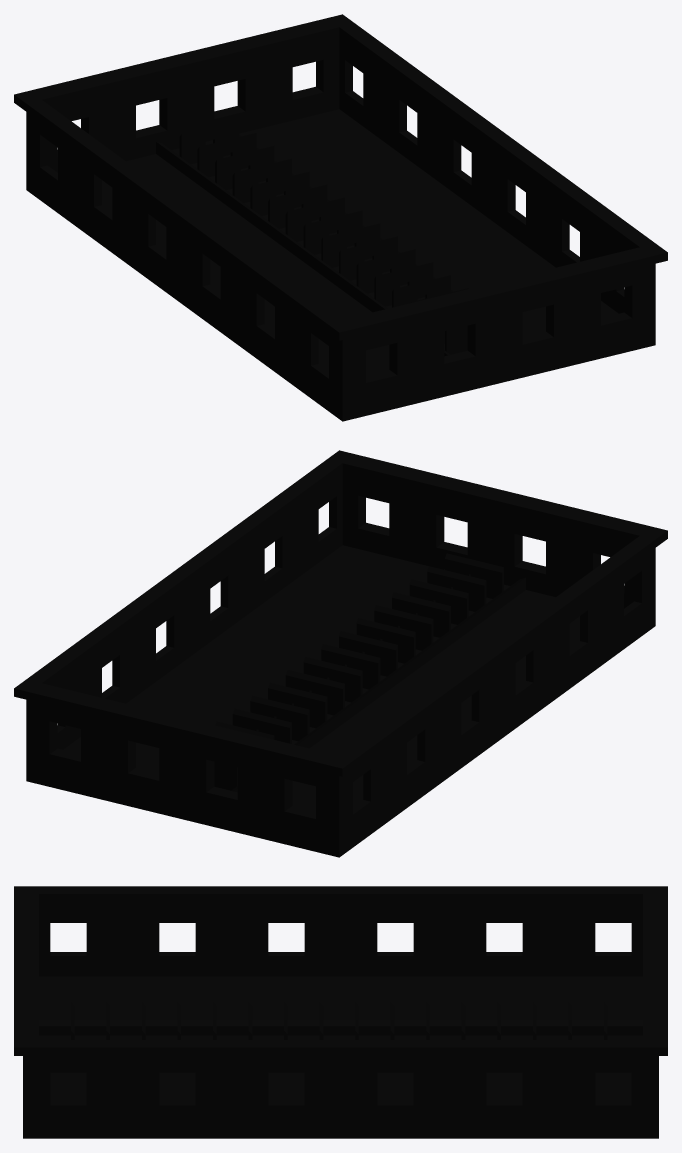
Rendered from dish_dryer.glb.
3 renders of one model, top to bottom at view 1: azimuth 30°, elevation 25°; view 2: azimuth 150°, elevation 25°; view 3: azimuth 270°, elevation 25°, orthographic.
Visible parts, largest first — view 1: dish_dryer; view 2: dish_dryer; view 3: dish_dryer.
Part boxes in pixels (x1,y1,x2,y2): dish_dryer: (14, 14, 667, 421); dish_dryer: (14, 450, 667, 857); dish_dryer: (14, 886, 667, 1138).
Bounding box in the file's own units: 0.42 × 0.115 × 0.72.
Materials: 1 (1 with a texture image).
